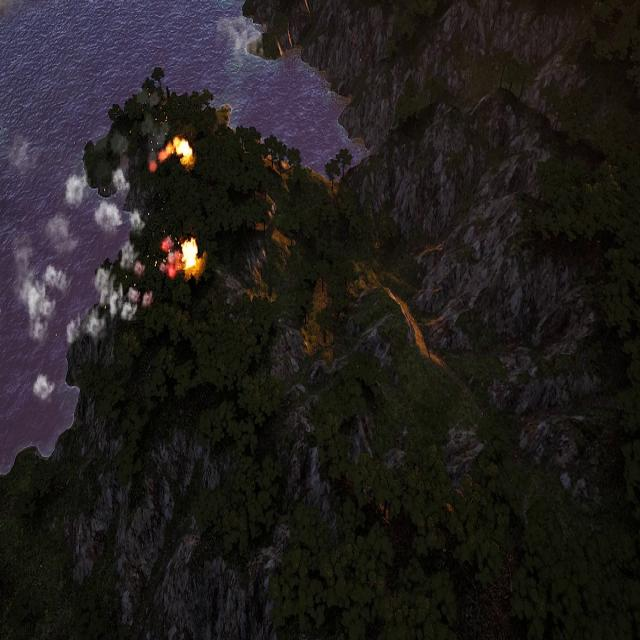fire: (158, 135, 196, 169), (178, 234, 204, 278)
smoke: (14, 131, 171, 402)
